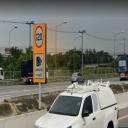speed_limit_120: (35, 27, 43, 48)
